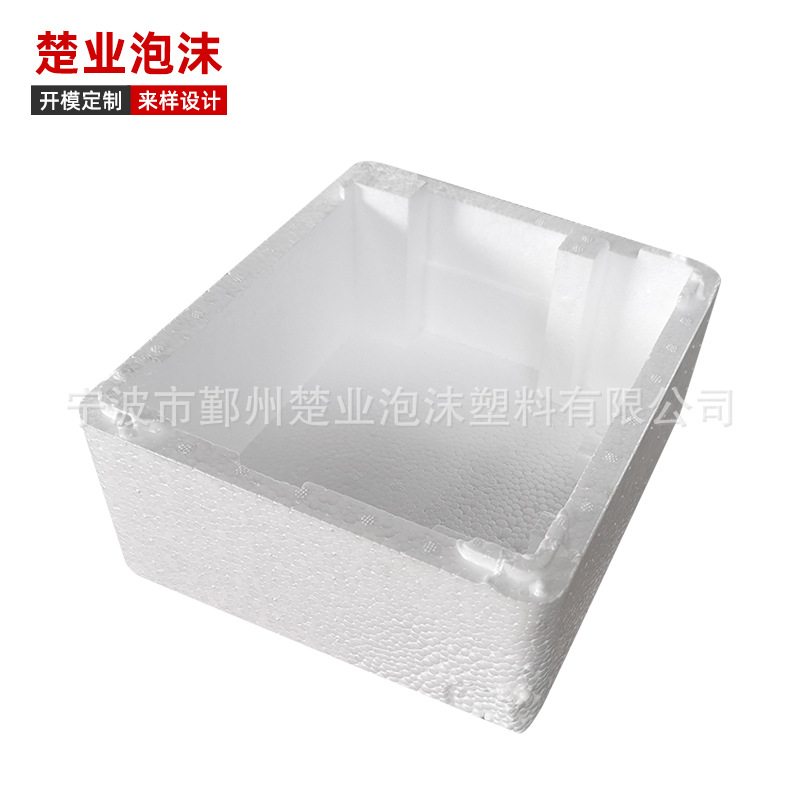Boxes: (75, 163, 720, 731)
